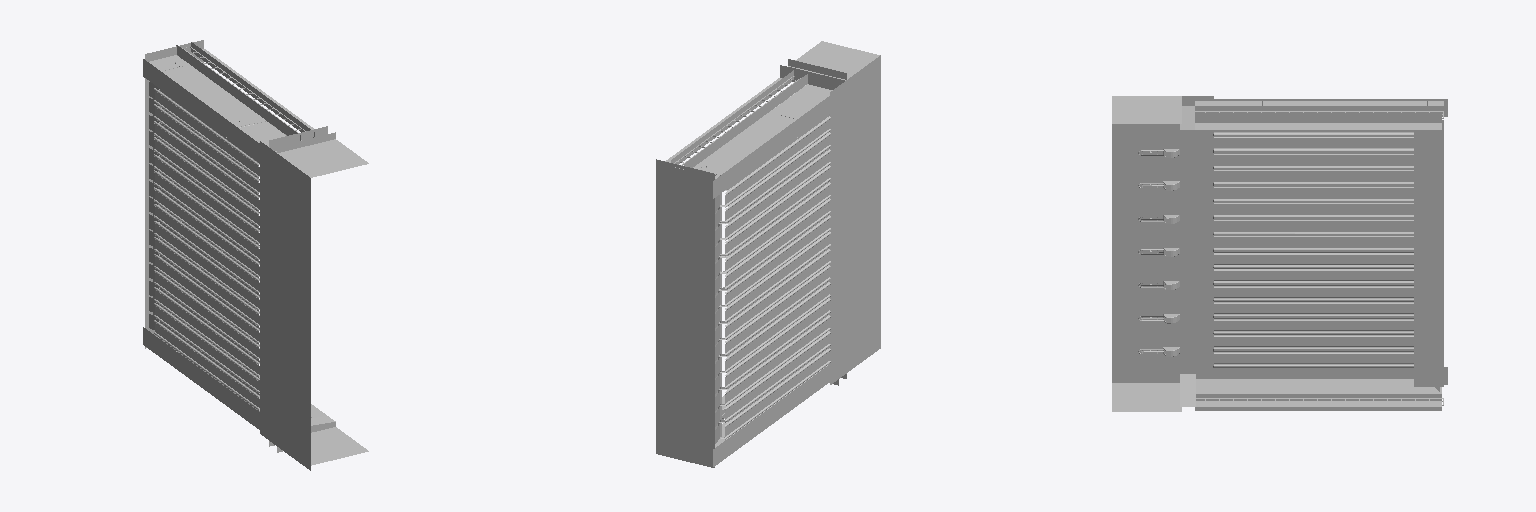
The model's file is alley_no_roof_no_bottom.obj.
3 views of the same model, side by side, from view 1: azimuth 30°, elevation 25°; view 2: azimuth 150°, elevation 25°; view 3: azimuth 270°, elevation 25° (orthographic).
Visible parts, largest first — view 1: Venue01.lwo.002; view 2: Venue01.lwo.002; view 3: Venue01.lwo.002.
Part boxes in pixels (x1,y1,x2,y2): Venue01.lwo.002: (143, 40, 368, 470); Venue01.lwo.002: (656, 41, 880, 467); Venue01.lwo.002: (1112, 96, 1447, 411).
Bounding box in the file's own units: 2.83 × 13.79 × 13.68.